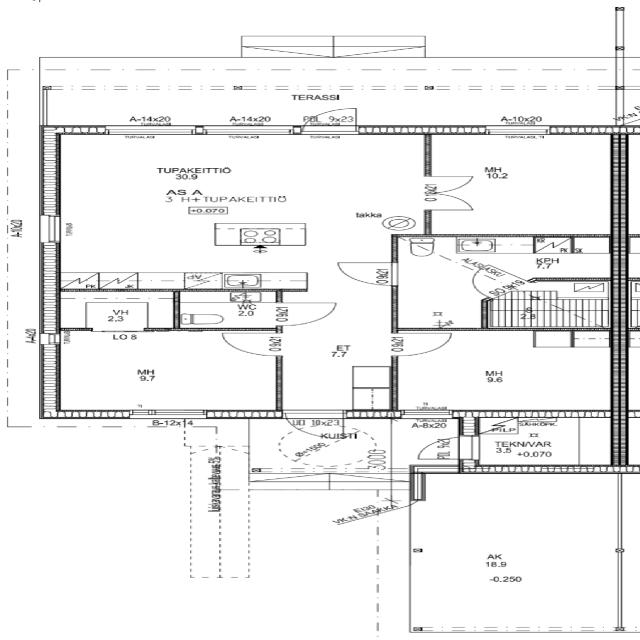door: (423, 172, 480, 215), (331, 259, 404, 287), (214, 329, 284, 358), (388, 329, 458, 358), (298, 105, 365, 134), (273, 300, 342, 328), (280, 412, 347, 440), (411, 437, 472, 462)
window: (103, 125, 202, 138), (201, 125, 299, 138), (36, 213, 68, 246), (124, 408, 211, 420), (482, 125, 554, 137), (270, 365, 289, 407)
zone: (47, 134, 426, 289), (408, 475, 623, 630), (392, 236, 620, 332), (389, 328, 619, 415), (51, 329, 279, 414), (428, 134, 616, 236), (470, 418, 617, 468), (262, 421, 384, 470), (55, 291, 178, 331), (174, 290, 282, 330)
